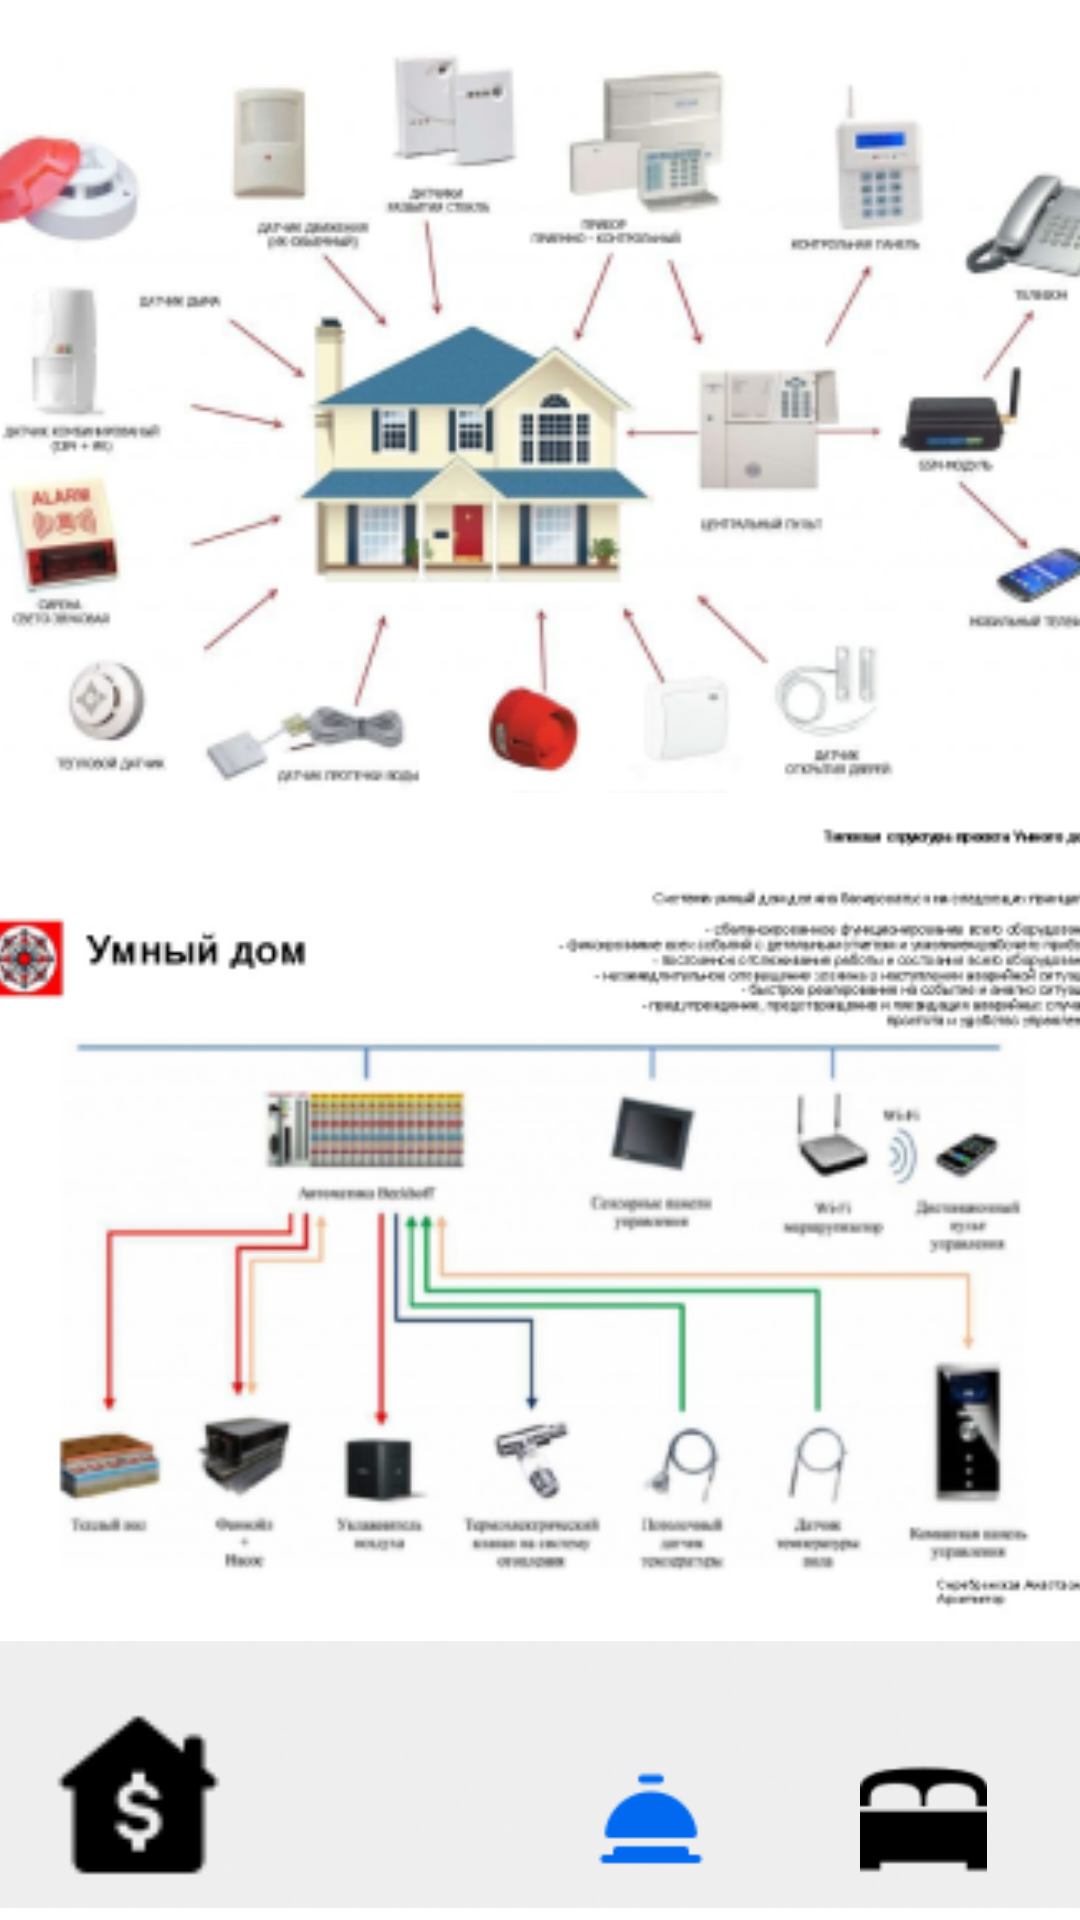

Where to tap for icons on this 1080x1920 app screen, as (x,y):
bedroom: (923,1819)
rentnotlighted: (138,1795)
roomserv: (651,1818)
